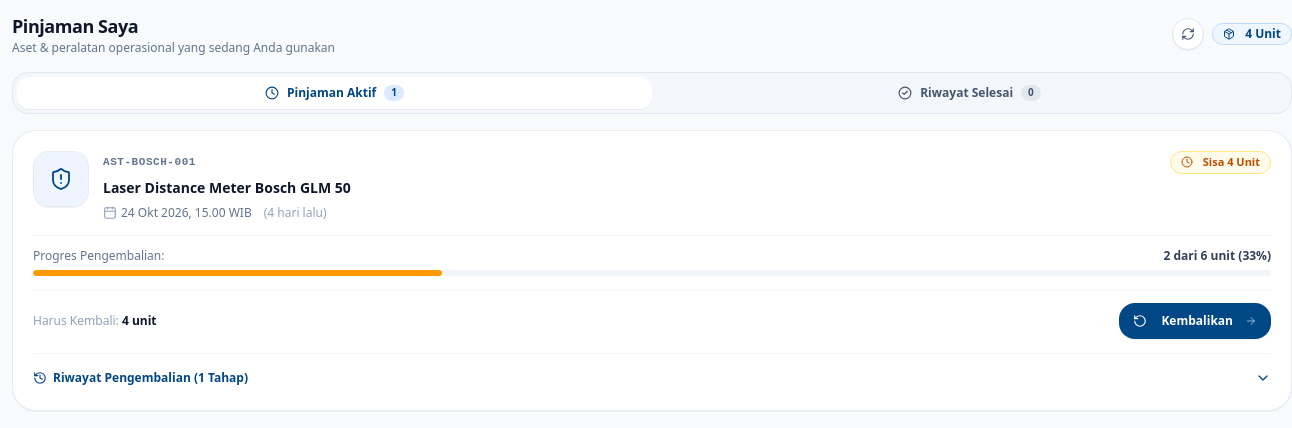
Test case: Task P4.3: Loan History & Return Timeline Feature Suite › 3. Segmented Tab Navigation in LoansPage › displays appropriate empty state when active or history tab is empty
Expected: the heading "Laser Distance Meter Bosch GLM 50" is shown, [103,178,351,196]
Step 1. Click the button "Riwayat Selesai 0" → (970, 93), box [652,77,1287,109]
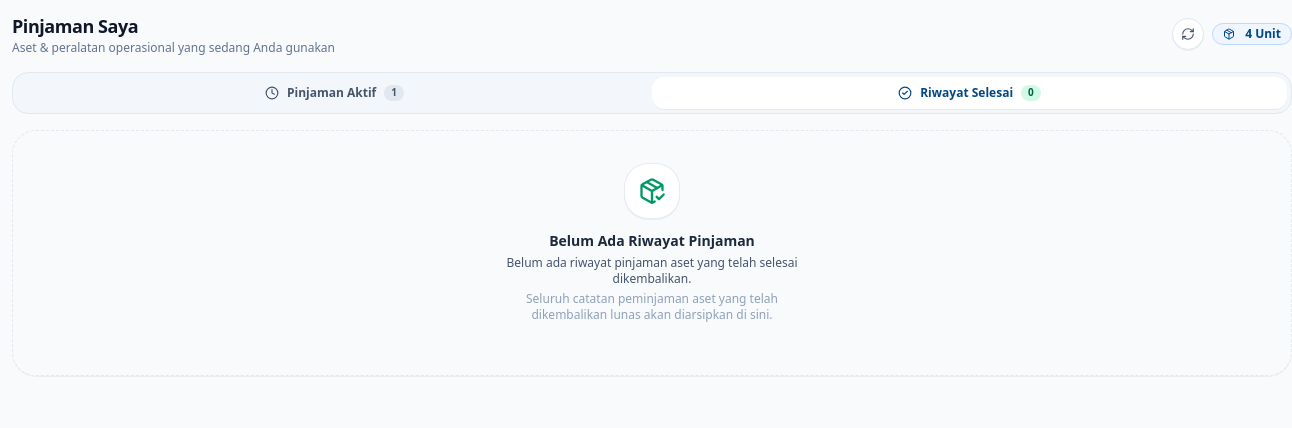
Now the text "Belum ada riwayat pinjaman aset yang telah selesai dikembalikan." is shown, box [492,255,812,287]
